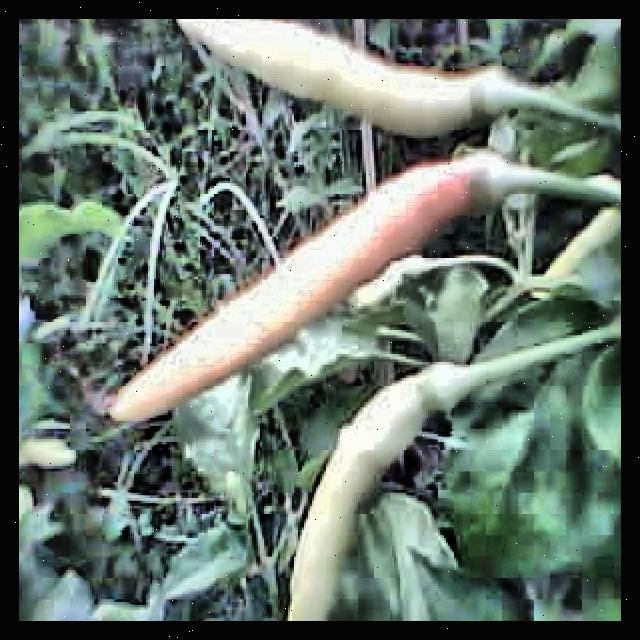Cabai: (154, 177, 519, 333)
